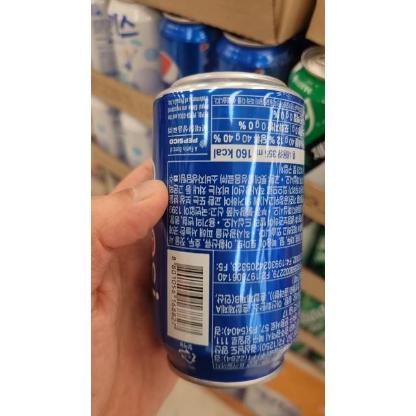Can: (143, 68, 313, 394)
